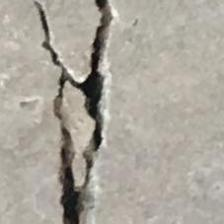Crack: (21, 0, 150, 224)
